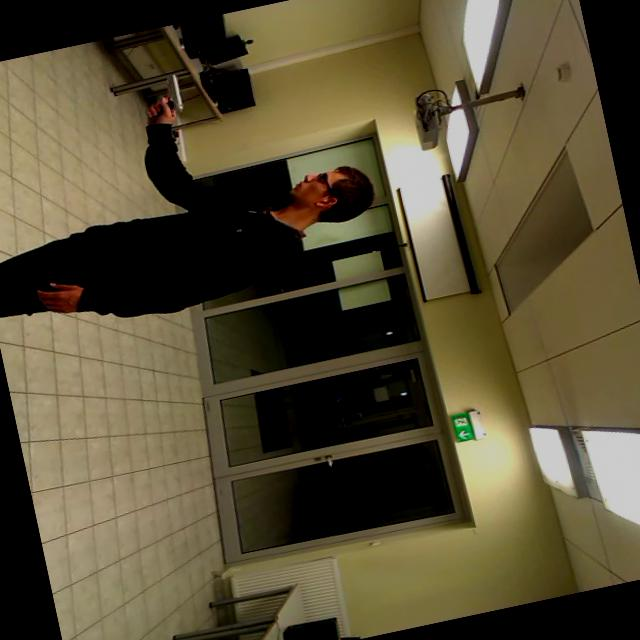handgun: (127, 68, 195, 132)
